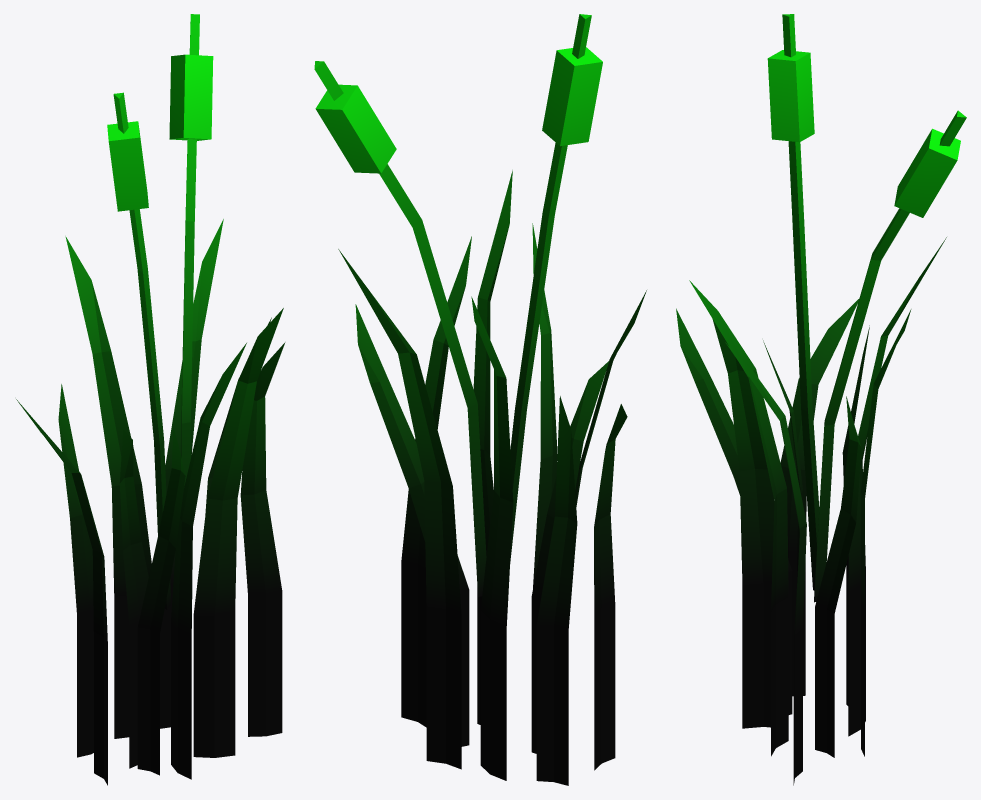
File: SM_Grass_03.fbx
3 views of the same model, side by side, from view 1: azimuth 30°, elevation 25°; view 2: azimuth 150°, elevation 25°; view 3: azimuth 270°, elevation 25° (orthographic). The views are drawn at different scales.
Visible parts, largest first — view 1: SM_Grass_03; view 2: SM_Grass_03; view 3: SM_Grass_03.
Part boxes in pixels (box(x1,y1,x2,y2)): SM_Grass_03: box(16, 14, 285, 785); SM_Grass_03: box(314, 14, 646, 785); SM_Grass_03: box(676, 14, 966, 785).
Bounding box in the file's own units: 55.44 × 144 × 55.08.
